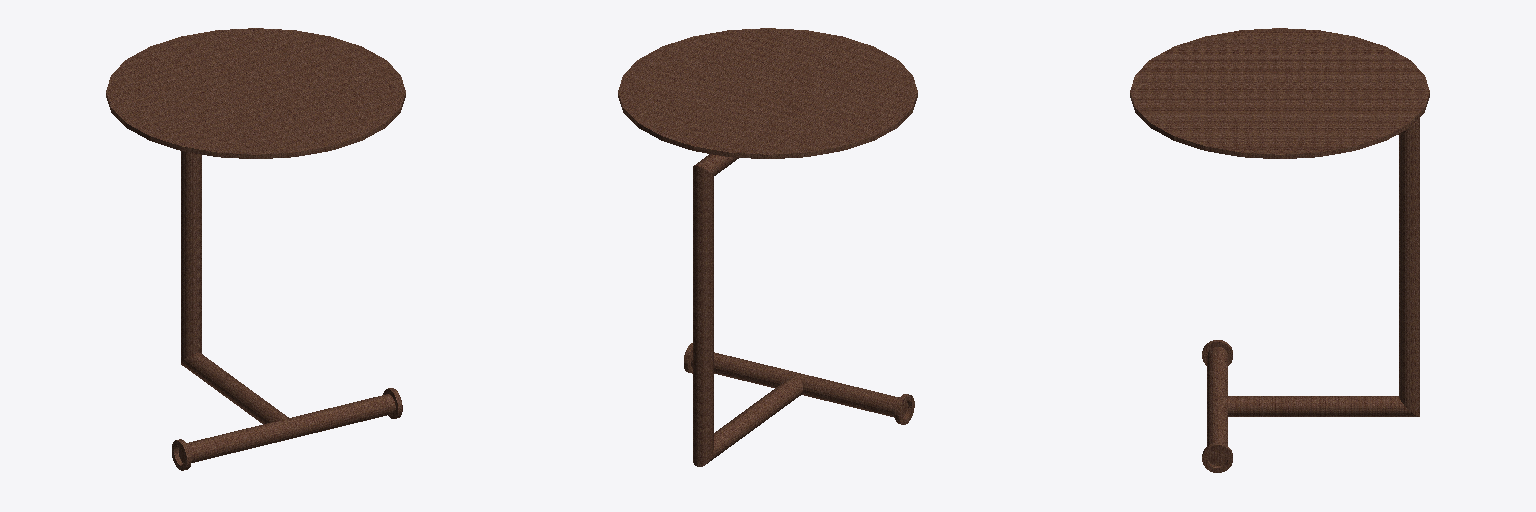
3 views of the same model, side by side, from view 1: azimuth 30°, elevation 25°; view 2: azimuth 150°, elevation 25°; view 3: azimuth 270°, elevation 25° (orthographic).
Parts seen in each view (by area): view 1: Mesh1 moebel_70629_KARE1 moebel_70629_kare_1_1 Component_4_1 Mod; view 2: Mesh1 moebel_70629_KARE1 moebel_70629_kare_1_1 Component_4_1 Mod; view 3: Mesh1 moebel_70629_KARE1 moebel_70629_kare_1_1 Component_4_1 Mod.
Boxes of the visible parts, <box> form: Mesh1 moebel_70629_KARE1 moebel_70629_kare_1_1 Component_4_1 Mod: <box>106,28,405,470</box>; Mesh1 moebel_70629_KARE1 moebel_70629_kare_1_1 Component_4_1 Mod: <box>618,28,917,466</box>; Mesh1 moebel_70629_KARE1 moebel_70629_kare_1_1 Component_4_1 Mod: <box>1130,28,1429,472</box>.
Size of the model in its own units: 10.31 by 12.49 by 10.31.
2 materials, 1 textured.